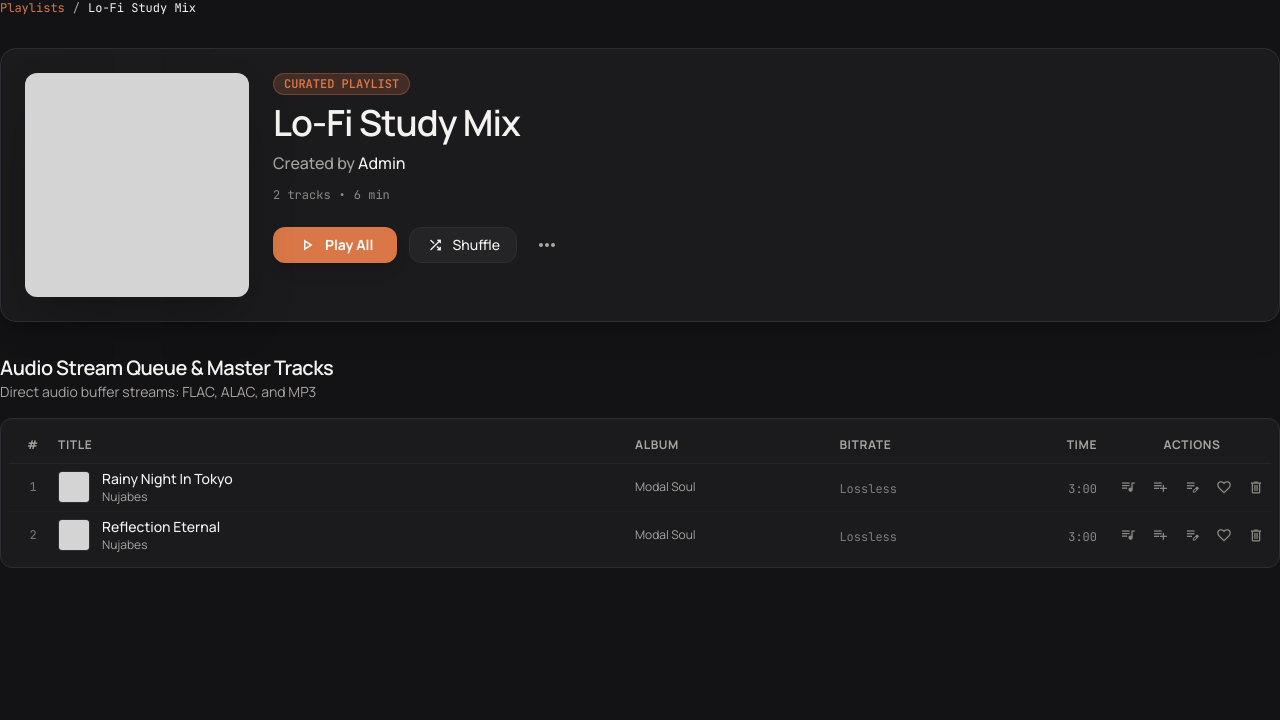
Test: PlaylistDetailView › opens rename modal when clicking Rename menu item in three-dots menu
Click the button named "playlist options": [547, 245] box [529,227,565,263]
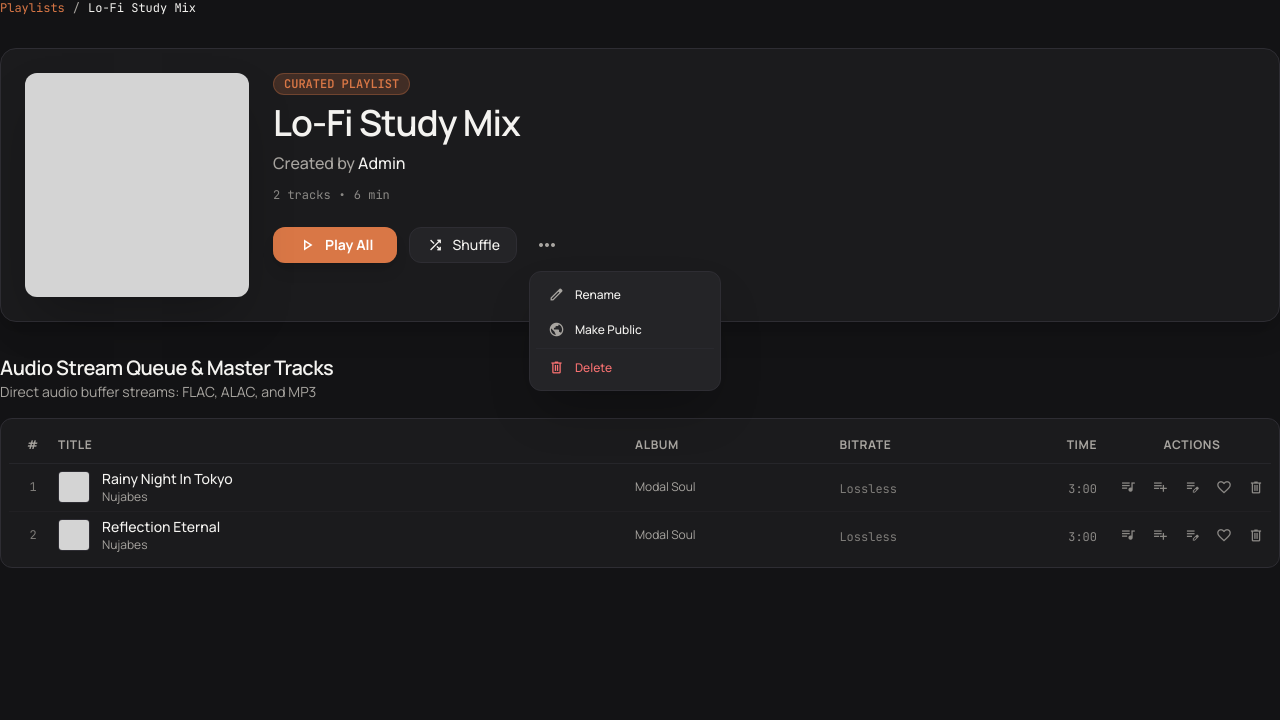
Expected: the menu item with aria-label "rename playlist" is shown
Click the menu item with aria-label "rename playlist": [625, 294] box [536,278,714,311]
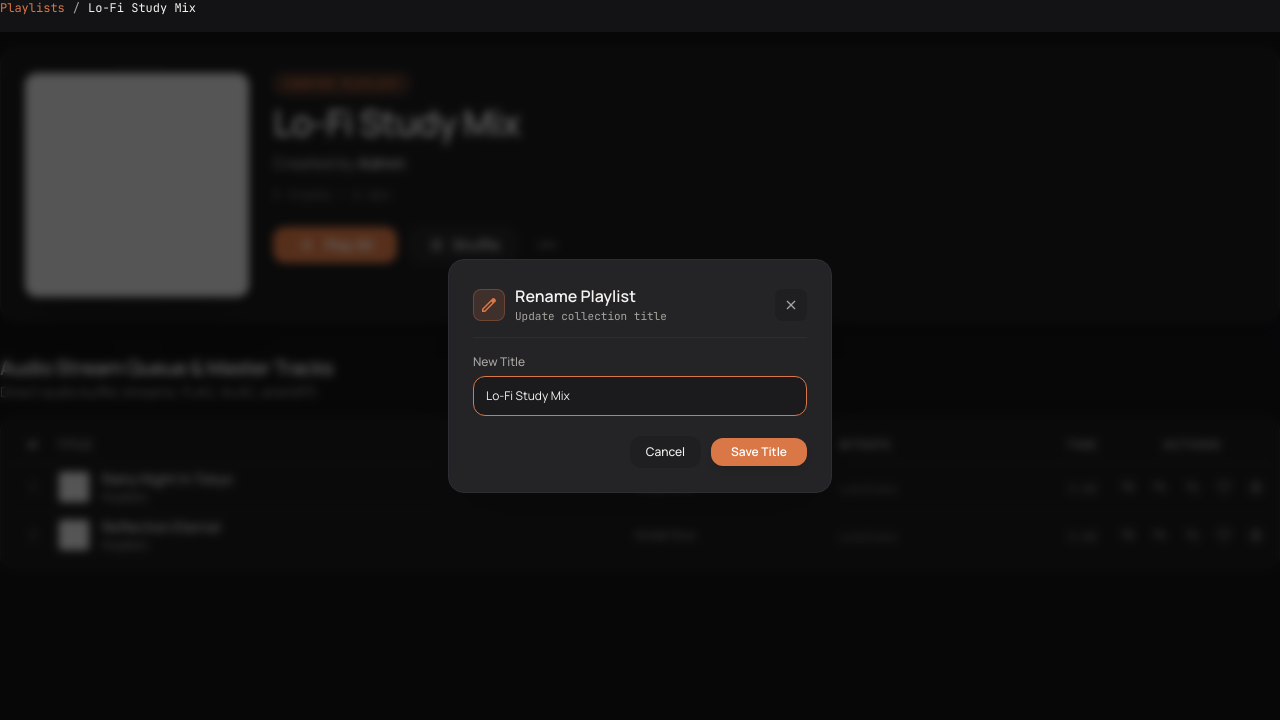
Expected: the text "Update collection title" is shown, [515,308,667,325]
